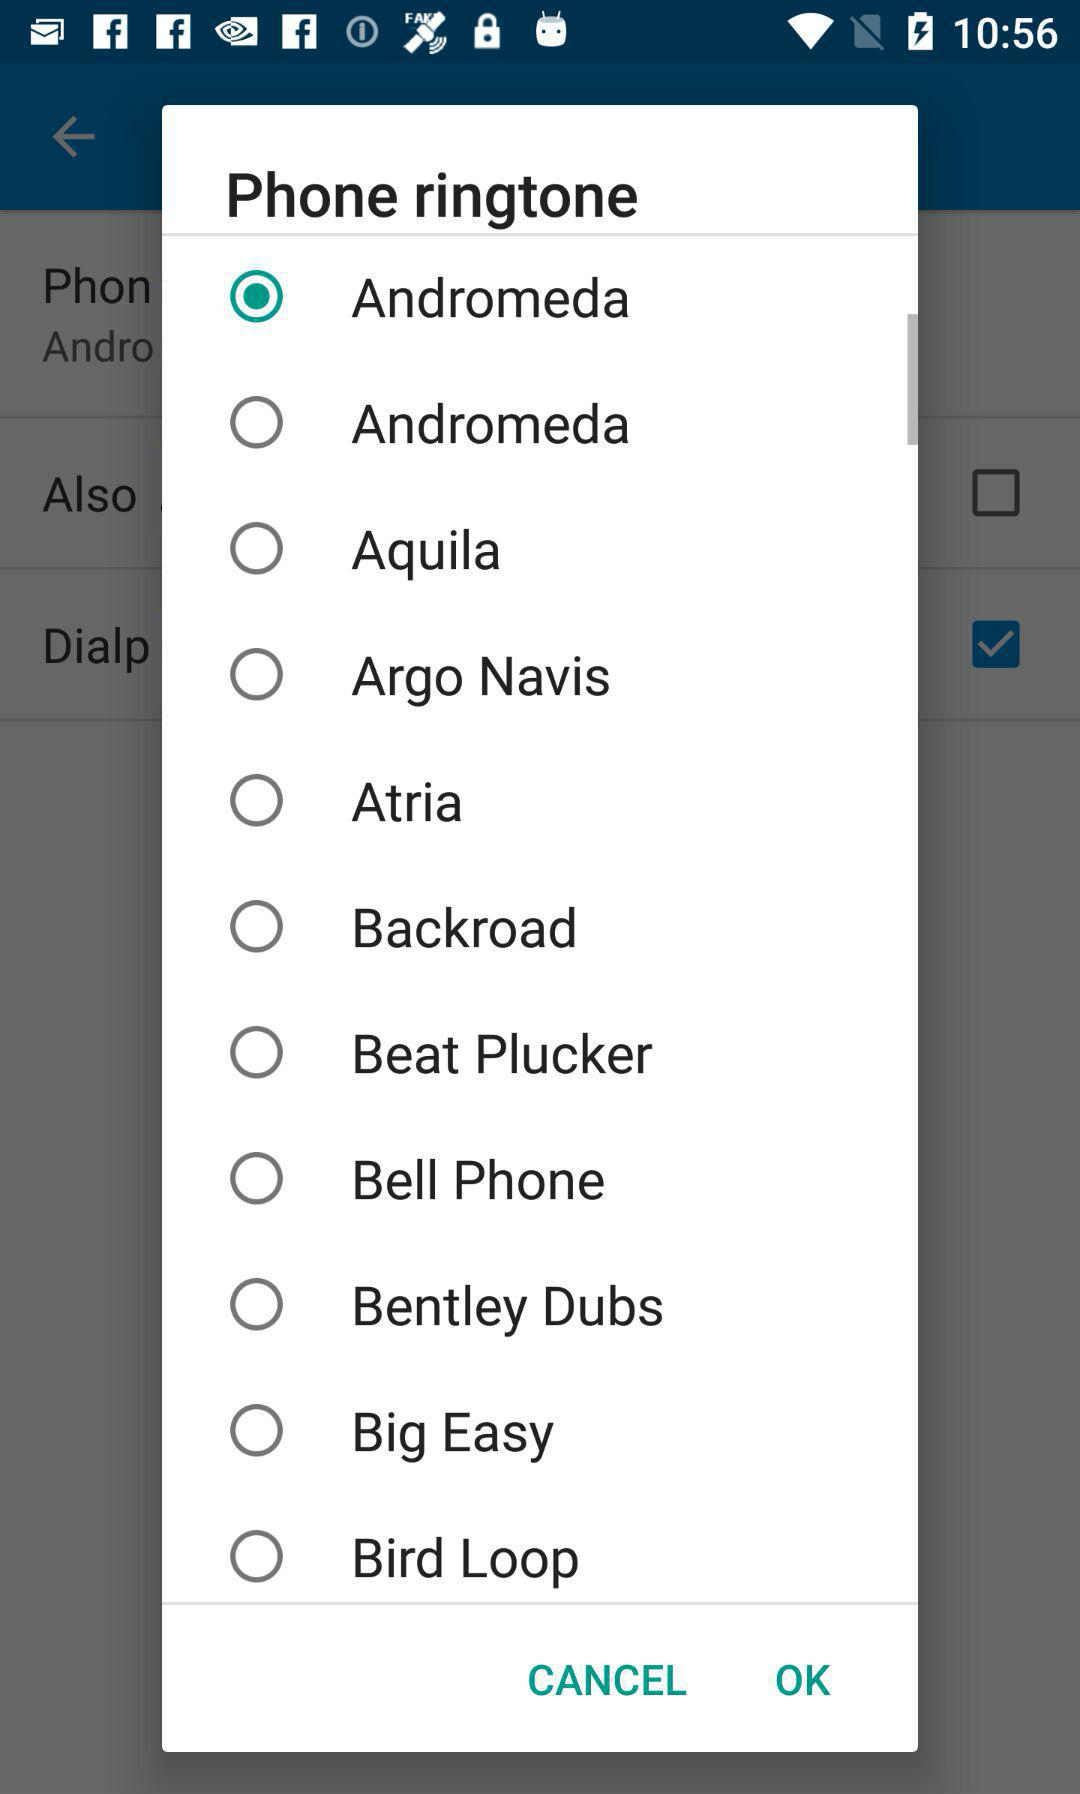CheckedTextView: (229, 1278, 664, 1338), (229, 1024, 653, 1080), (231, 647, 610, 709), (229, 269, 630, 325), (229, 395, 630, 451), (229, 1527, 580, 1592), (229, 1151, 605, 1206), (229, 1403, 556, 1465), (231, 900, 577, 953), (229, 522, 501, 582), (231, 771, 462, 828)
Icon: (53, 117, 97, 160)
Modal: (161, 105, 919, 1753)
Text: (228, 169, 639, 232), (354, 1284, 664, 1338), (351, 655, 610, 709), (355, 1032, 653, 1076), (355, 1536, 580, 1592), (352, 277, 630, 320), (352, 402, 630, 446), (354, 1158, 605, 1202), (355, 1411, 556, 1465), (355, 906, 577, 950), (351, 528, 501, 582), (528, 1663, 688, 1697), (352, 782, 462, 824), (776, 1663, 831, 1697)
UpperTaskBar: (1, 1, 1080, 64)
